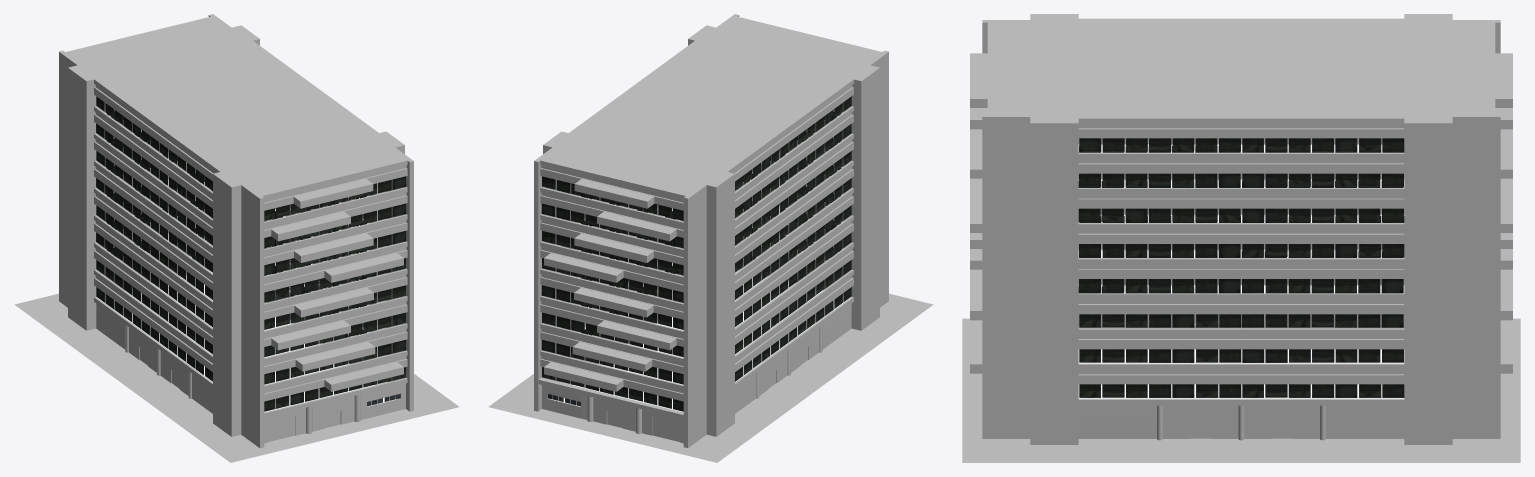
3 renders of one model, left to right at view 1: azimuth 30°, elevation 25°; view 2: azimuth 150°, elevation 25°; view 3: azimuth 270°, elevation 25°, orthographic. The views are drawn at different scales.
Parts seen in each view (by area): view 1: M-005; view 2: M-005; view 3: M-005.
Boxes of the visible parts, x1,y1,x2,y2 form: M-005: (14,14,458,462); M-005: (489,14,933,462); M-005: (962,14,1520,462).
Size of what is drawn, in the model's own units: 44 by 45.8 by 72.
